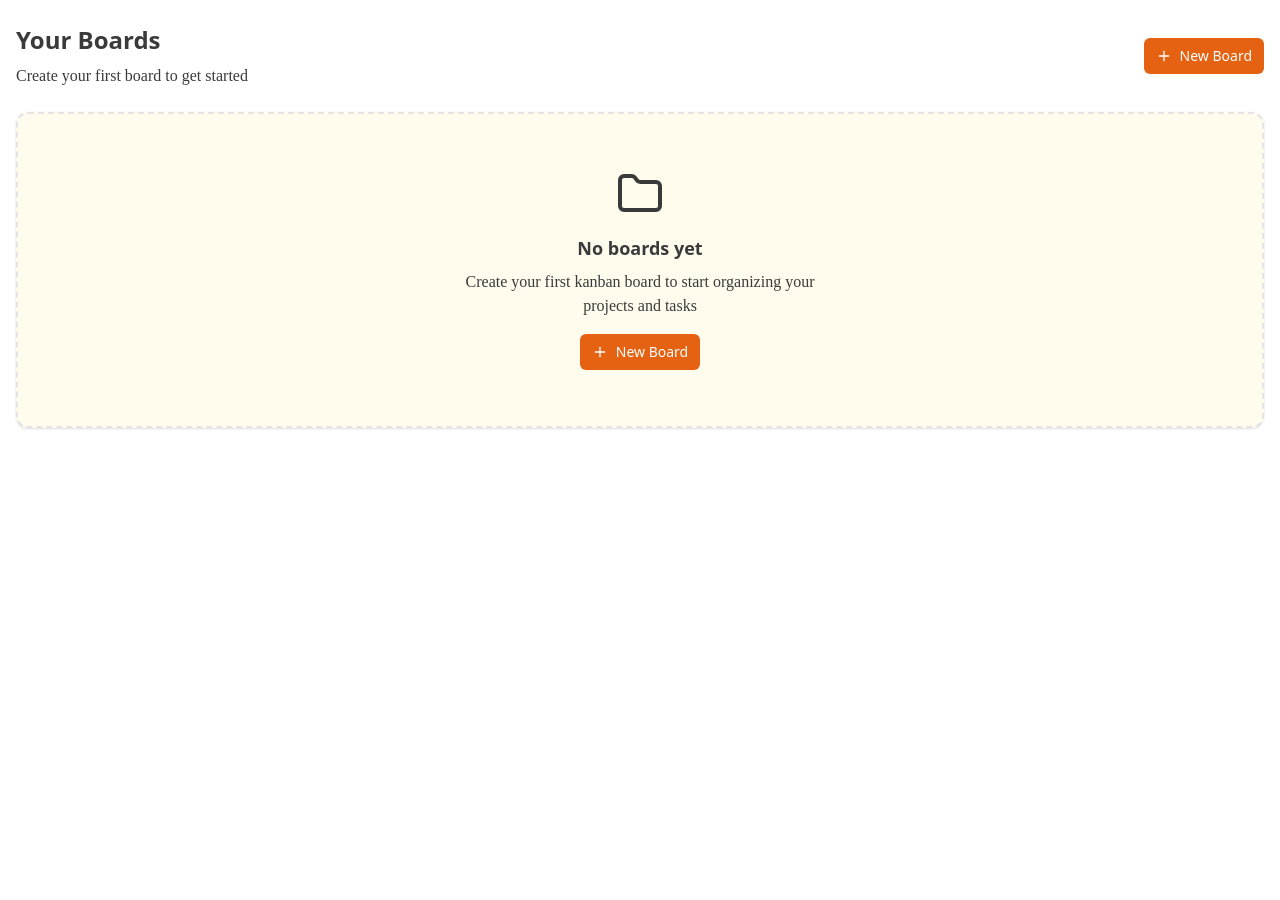
Dashboard › should open create board dialog when create board button is clicked
Click the button "New Board" in the row of "Create your first board to get started" at (1204, 56), box 1144,38 -> 1264,74
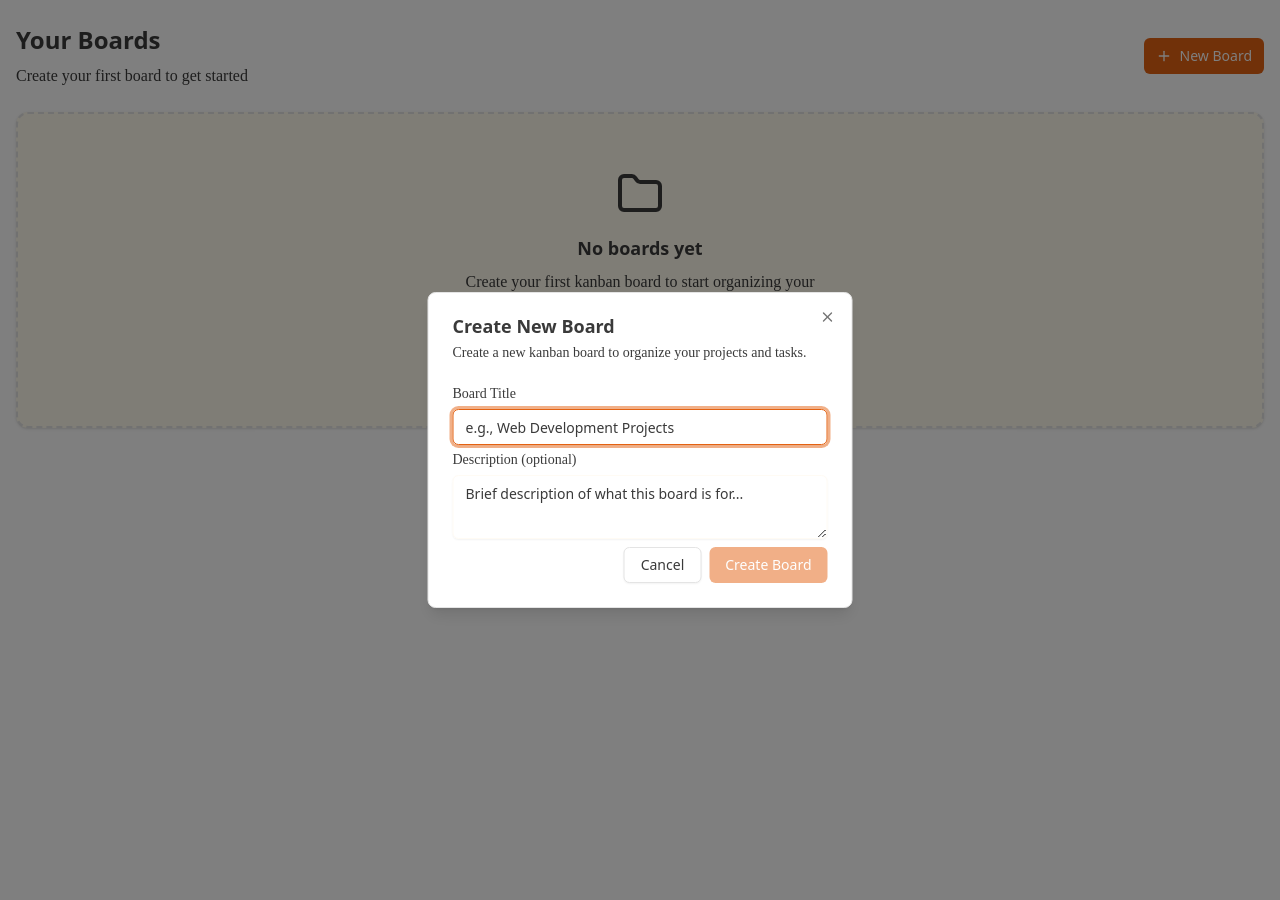
expect the dialog is shown: met, box 428,292 -> 852,608
